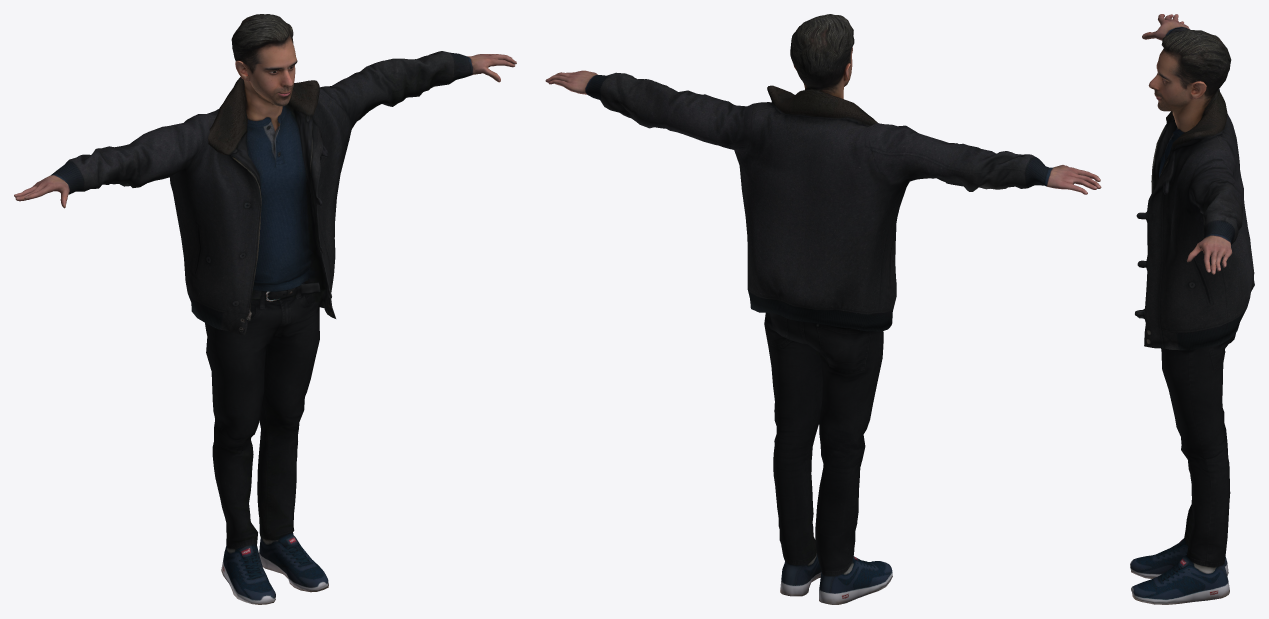
The model's file is Prueba.fbx.
3 views of the same model, side by side, from view 1: azimuth 30°, elevation 25°; view 2: azimuth 150°, elevation 25°; view 3: azimuth 270°, elevation 25° (orthographic). The views are drawn at different scales.
Visible parts, largest first — view 1: TEST_BLENDSHAPES_PARA_UNITY:Cesar_D_LaTorre_Jacket1; view 2: TEST_BLENDSHAPES_PARA_UNITY:Cesar_D_LaTorre_Jacket1; view 3: TEST_BLENDSHAPES_PARA_UNITY:Cesar_D_LaTorre_Jacket1.
Part boxes in pixels (<box>): TEST_BLENDSHAPES_PARA_UNITY:Cesar_D_LaTorre_Jacket1: <box>14,14,516,604</box>; TEST_BLENDSHAPES_PARA_UNITY:Cesar_D_LaTorre_Jacket1: <box>545,14,1101,604</box>; TEST_BLENDSHAPES_PARA_UNITY:Cesar_D_LaTorre_Jacket1: <box>1130,14,1254,604</box>.
Bounding box in the file's own units: 180 × 184 × 37.63.
1 material, 1 textured.
